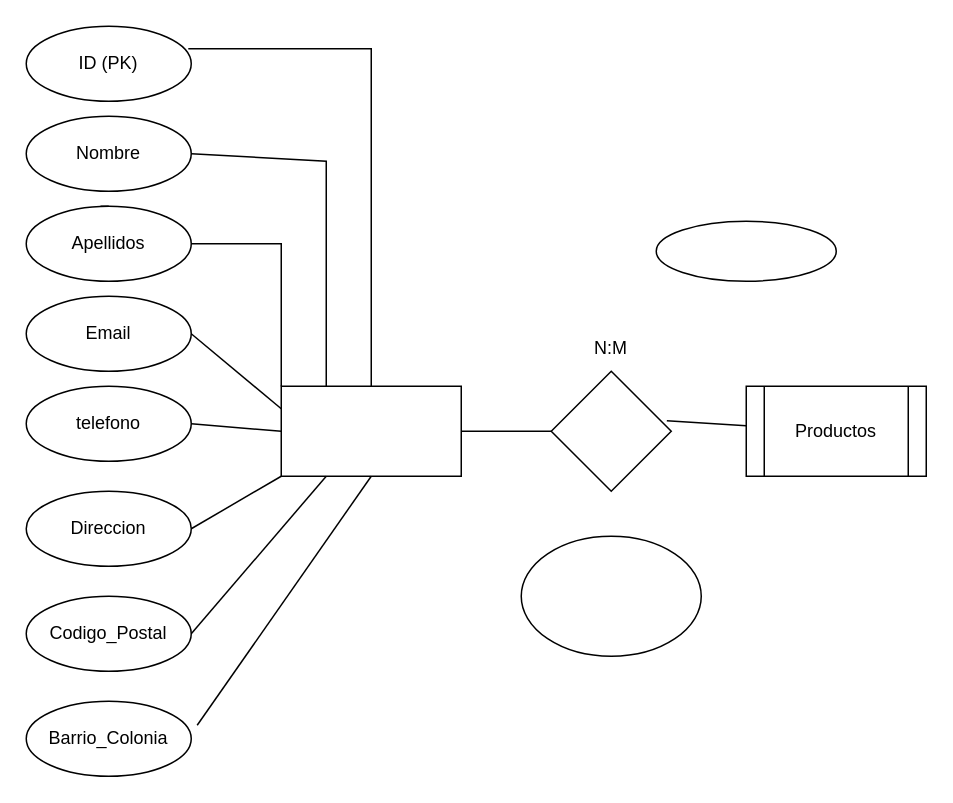
Image size: 953x803. Some labels were removed from this diagram. The shapes that lost their labels are listed below. From the top down, each one's centre as x and y in pixels, then its label:
At [745,250]: "SKU (PK)".
At [370,430]: "Clientes".
At [610,430]: "Compra".
